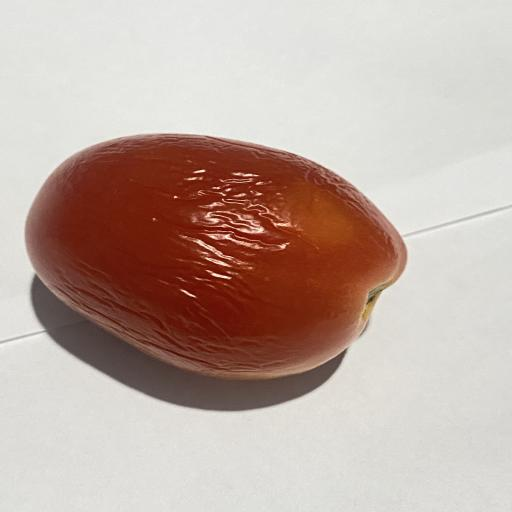spoiled: (26, 134, 406, 379)
